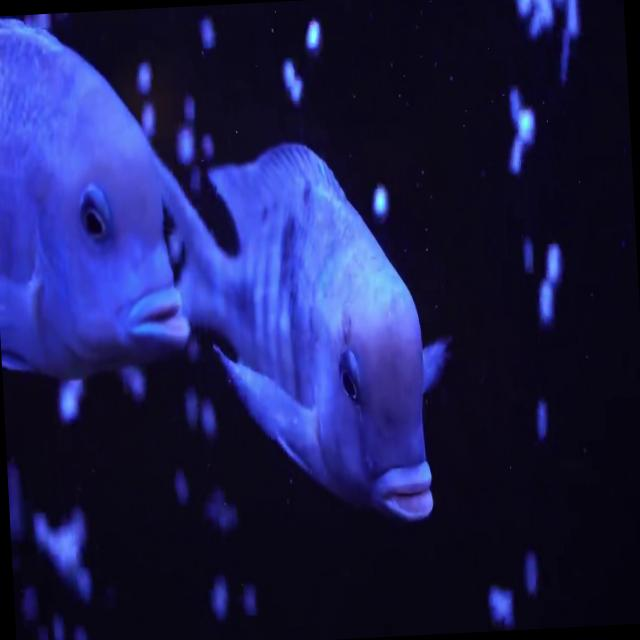fish: (158, 136, 435, 534), (0, 7, 183, 372)
